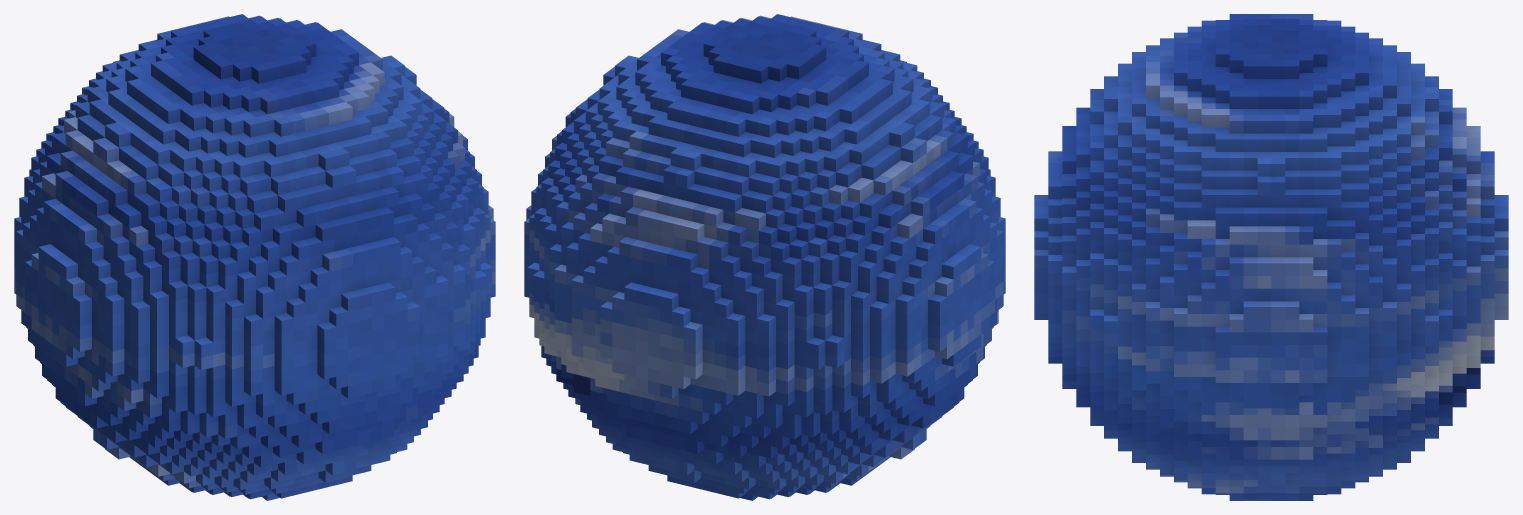
Rendered from neptune_lod1.glb.
3 views of the same model, side by side, from view 1: azimuth 30°, elevation 25°; view 2: azimuth 150°, elevation 25°; view 3: azimuth 270°, elevation 25° (orthographic).
Parts seen in each view (by area): view 1: neptune_lod1; view 2: neptune_lod1; view 3: neptune_lod1.
Part boxes in pixels (left/top/right/bottom): neptune_lod1: left=14, top=14, right=495, bottom=500; neptune_lod1: left=524, top=14, right=1005, bottom=500; neptune_lod1: left=1034, top=14, right=1508, bottom=500.
Bounding box in the file's own units: 2 × 2 × 2.
